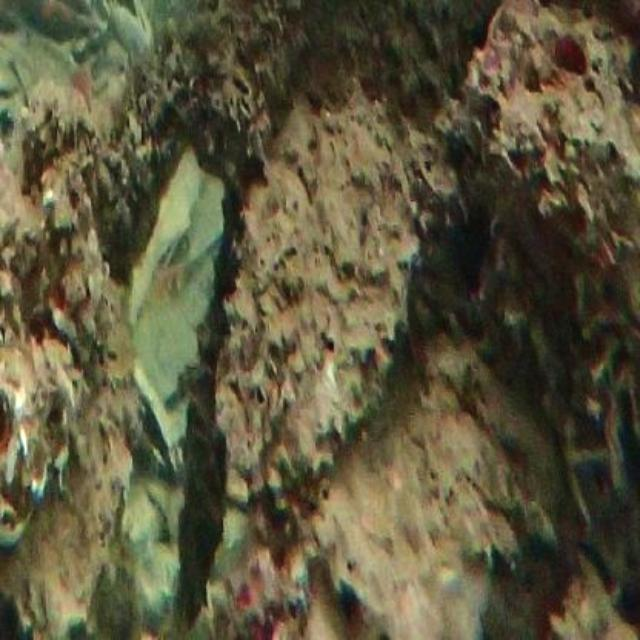Oyster-Closed: (224, 100, 416, 487), (0, 273, 135, 640), (0, 149, 105, 552)
Oyster-Open: (135, 367, 181, 491)
